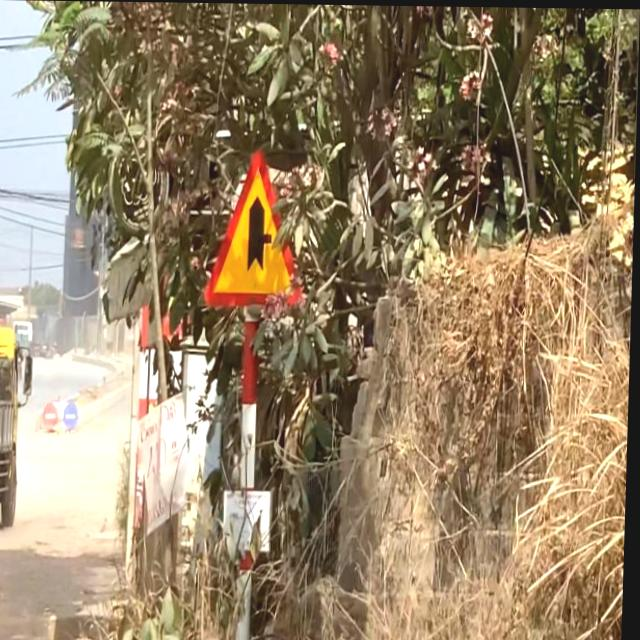Cam di nguoc chieu: (44, 402, 61, 431)
Giao nhau voi duong khong uu tien ben phai: (205, 146, 311, 310)
